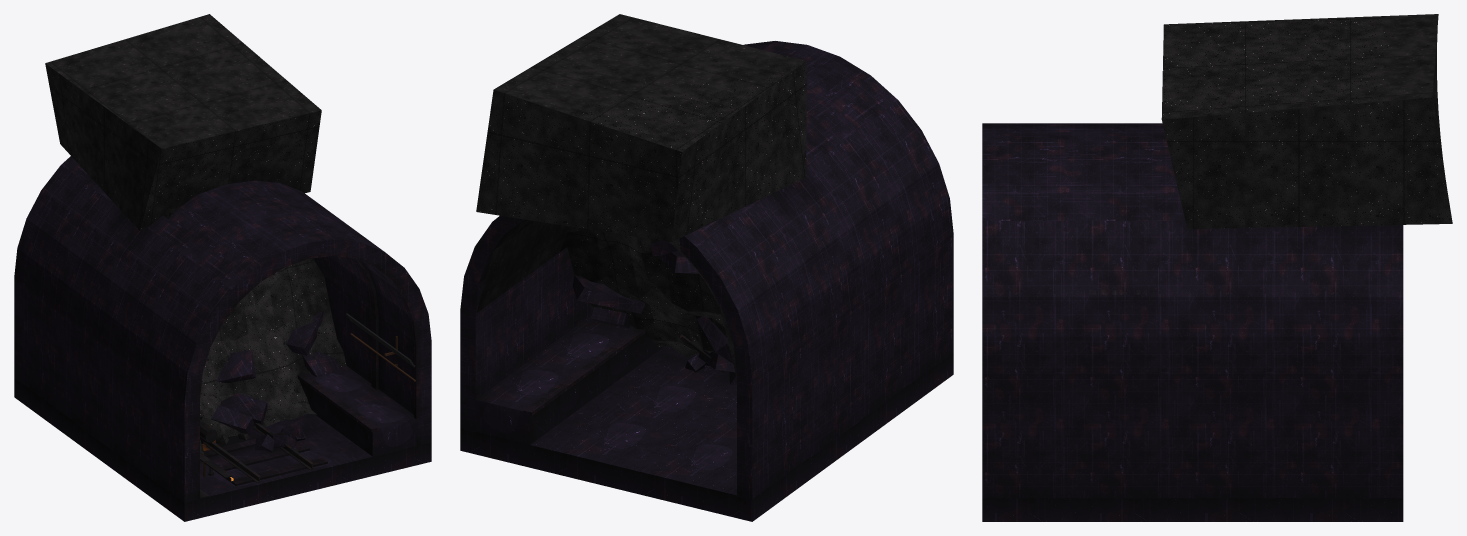
File: tunnel_collapse.glb
3 views of the same model, side by side, from view 1: azimuth 30°, elevation 25°; view 2: azimuth 150°, elevation 25°; view 3: azimuth 270°, elevation 25° (orthographic). The views are drawn at different scales.
Parts seen in each view (by area): view 1: body; view 2: body; view 3: body.
Boxes of the visible parts, box(x1,y1,x2,y2) form: body: box(14, 14, 431, 521); body: box(460, 14, 953, 521); body: box(982, 14, 1452, 521).
Size of what is drawn, in the model's own units: 6.7 by 8.39 by 8.94.
Materials: 16 (12 with a texture image).
